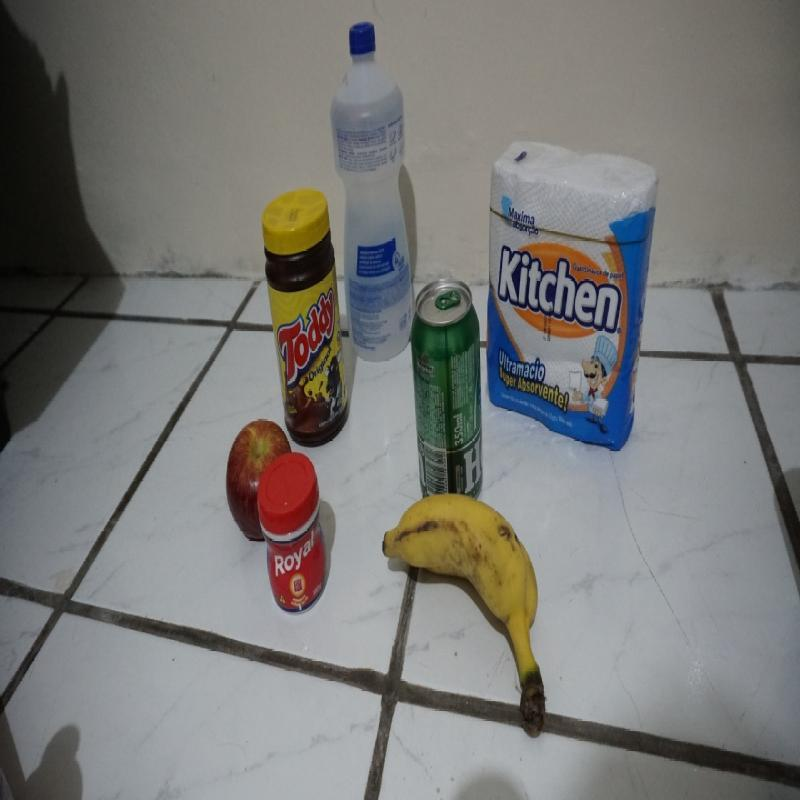Alcohol Bottle: (332, 22, 415, 362)
Apple: (224, 419, 295, 544)
Banana: (383, 496, 549, 738)
Beer can: (410, 280, 483, 500)
Chocolate Powder: (263, 190, 349, 446)
Napkin: (489, 140, 657, 456)
Yeast: (258, 455, 328, 616)
